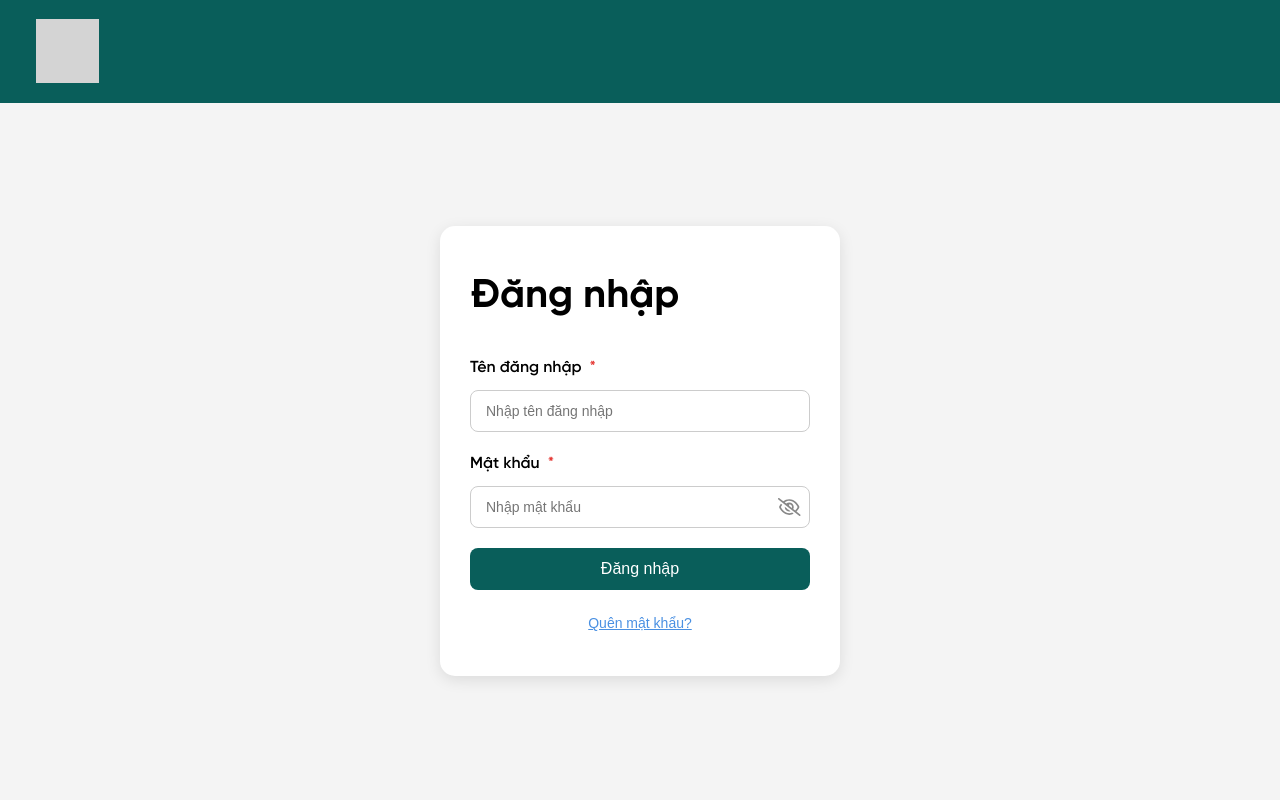
LoginPage › displays error message for invalid credentials
Step 1. Type "wronguser" into the field with placeholder "Nhập tên đăng nhập" → x=640, y=411, box x1=470 y1=390 x2=810 y2=432
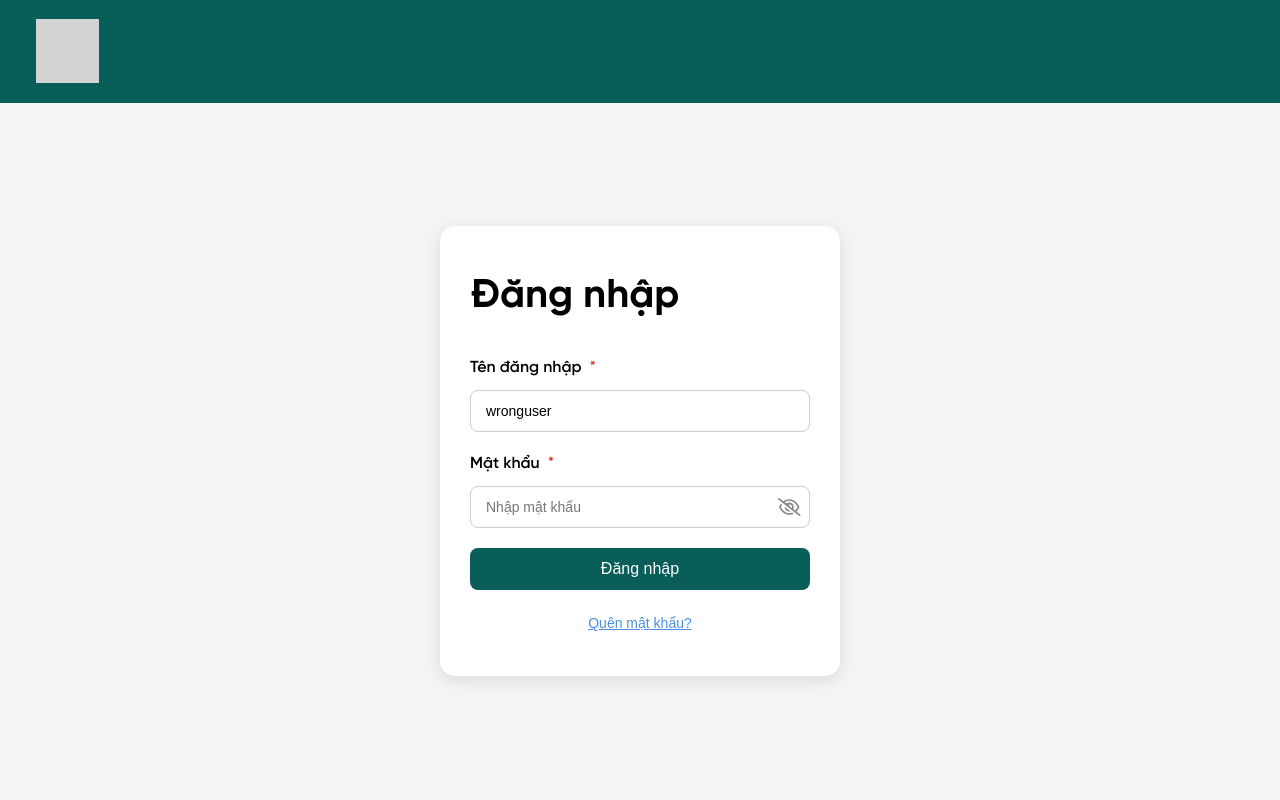
Step 2. Type "wrongpass" into the password field with placeholder "Nhập mật khẩu" → x=640, y=507, box x1=470 y1=486 x2=810 y2=528
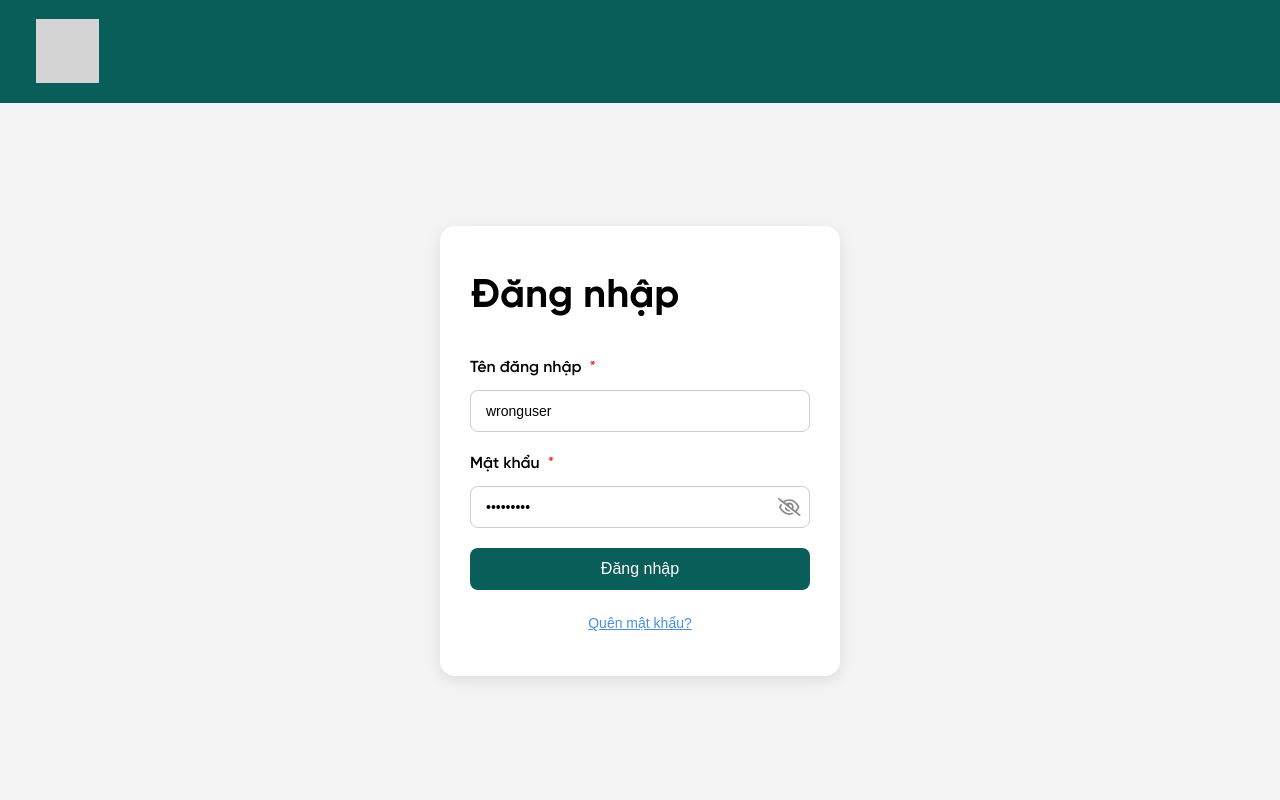
Step 3. Click the button "Đăng nhập" → x=640, y=569, box x1=470 y1=548 x2=810 y2=590
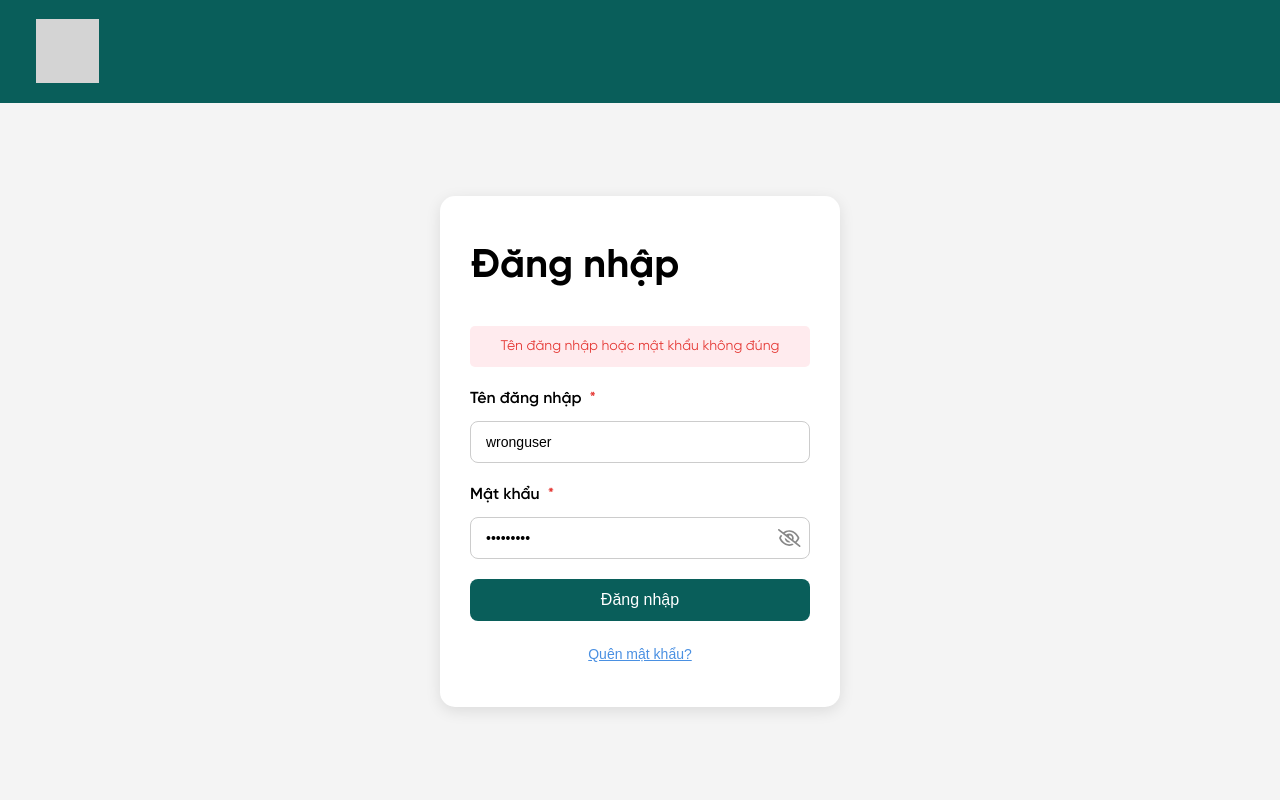
Expected: the text "Tên đăng nhập hoặc mật khẩu không đúng" is shown, x1=470 y1=326 x2=810 y2=367
